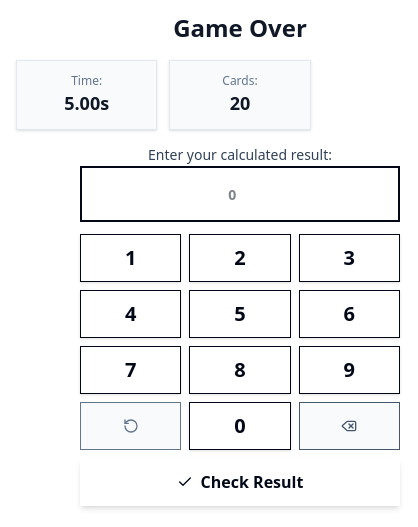
GameOverScreen › shows correct message and score when user enters correct answer
The width and height of the screenshot is (418, 527).
Type "120" into the number field labelled "Enter your calculated result:" at (240, 194), box 80,166 -> 400,222
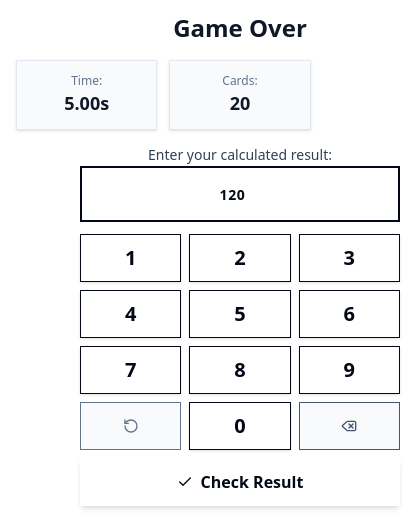
Click the button "Check Result" at (240, 482), box 80,458 -> 400,506
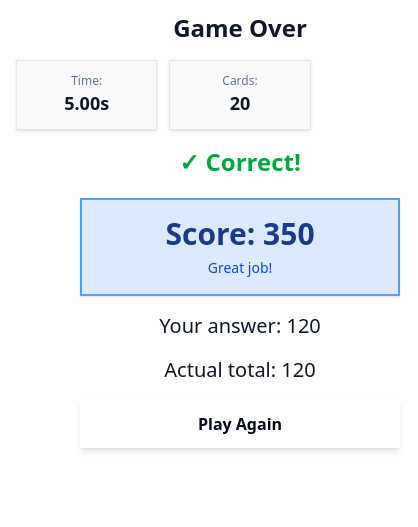
Expected: the text "✓ Correct!" is shown, 179,145 -> 301,178
Expected: the text "Score: 350" is shown, 165,213 -> 314,254
Expected: the text "Your answer: 120" is shown, 159,312 -> 321,339
